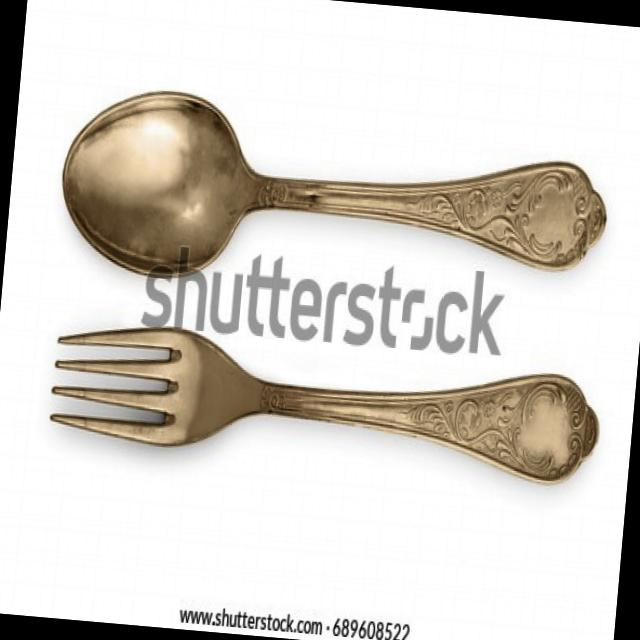fork: (46, 317, 606, 487)
